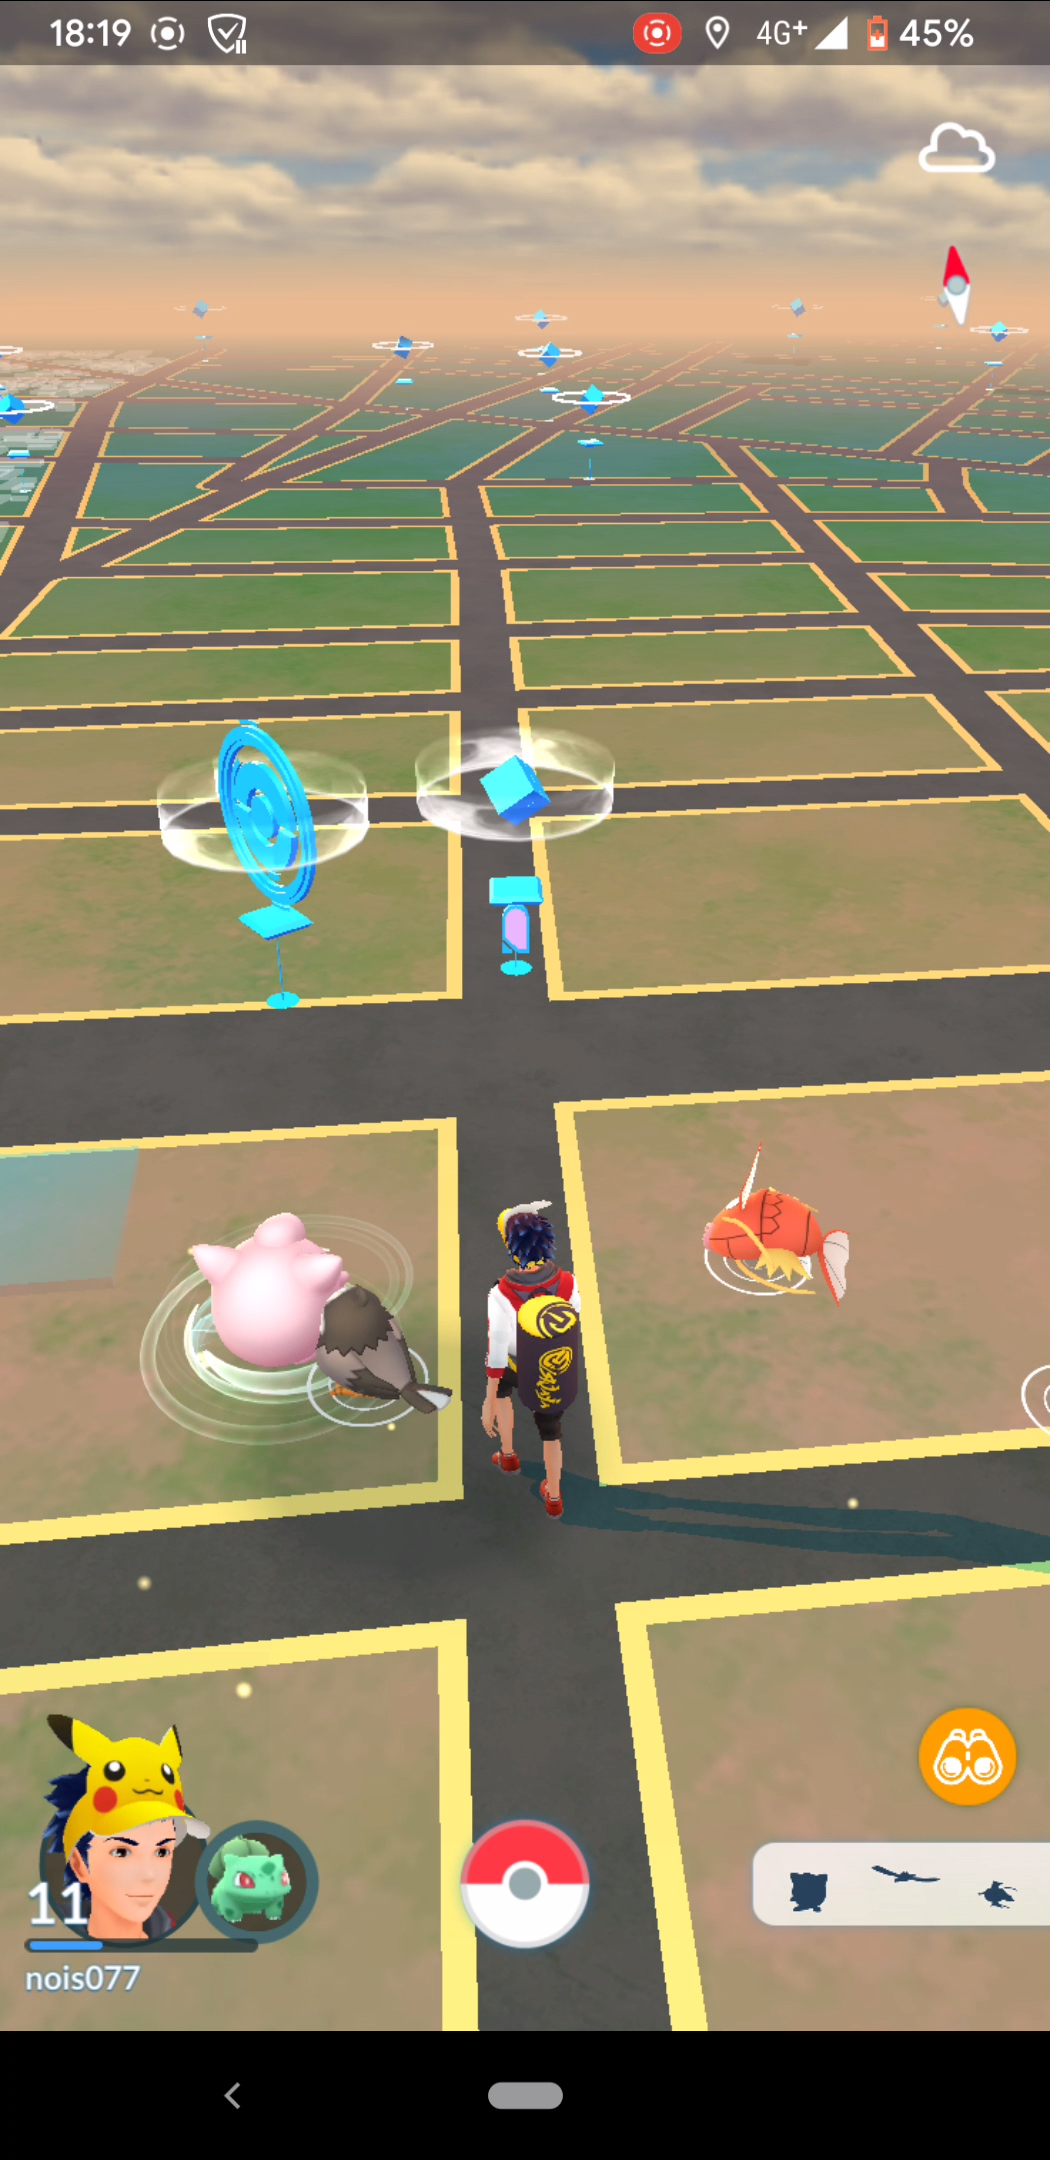pokestop: (207, 712, 325, 909)
